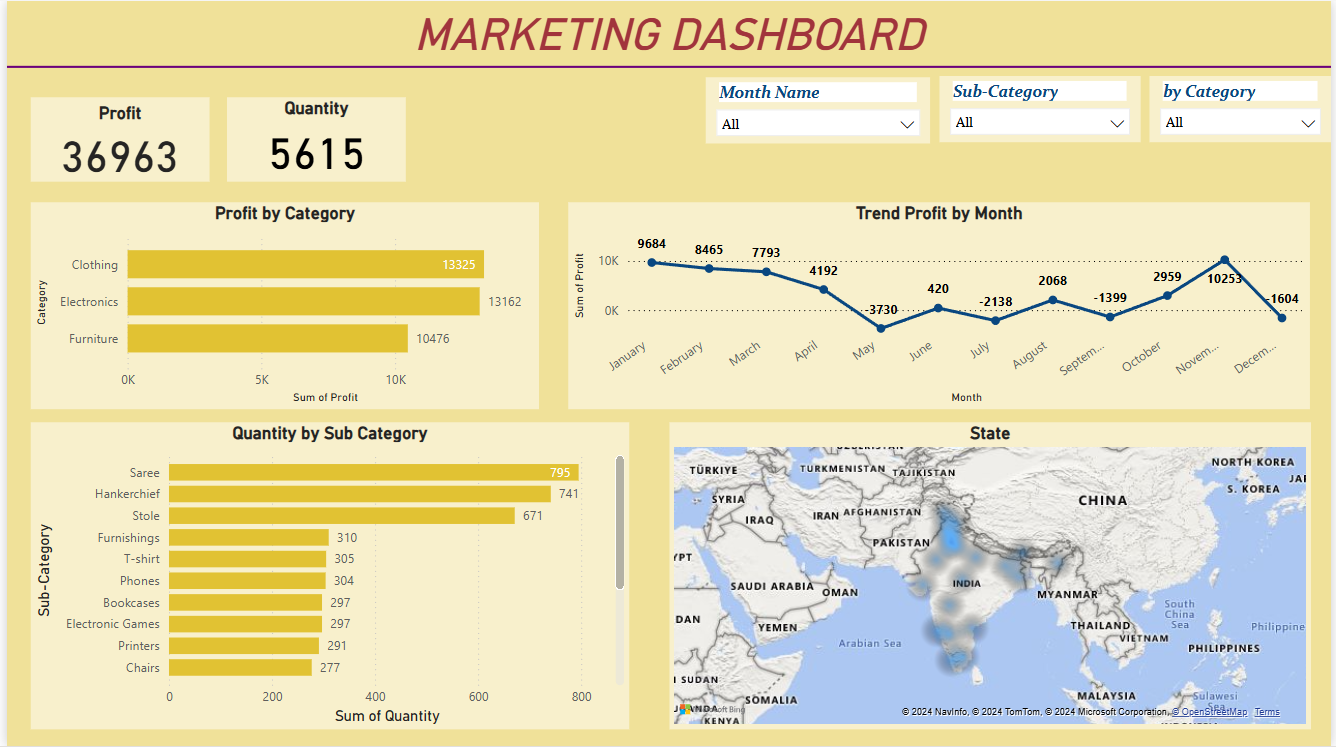

The dashboard page shown, as its layout file describes it:
{"tool":"powerbi","page":{"name":"Page 1","canvas":[1280,720],"ordinal":0},"visuals":[{"type":"textbox","title":"MARKETING DASHBOARD","box":[0,7.2,1279.6,56.7],"z":0},{"type":"shape","box":[0,54.3,1280,18.6],"z":1000},{"type":"card","title":"Profit","fields":{"Values":["Sum(Details.Profit)"]},"box":[22.9,92.9,172.9,81.4],"z":2000},{"type":"card","title":"Quantity","fields":{"Values":["Sum(Details.Quantity)"]},"box":[212.9,92.9,172.9,81.4],"z":3000},{"type":"barChart","title":"Profit by Category","fields":{"Category":["Details.Category"],"Y":["Sum(Details.Profit)"]},"box":[22.9,194.3,491.4,200],"z":4000},{"type":"barChart","title":"Quantity by Sub Category","fields":{"Category":["Details.Sub-Category"],"Y":["Sum(Details.Quantity)"]},"box":[22.9,407.1,578.6,297.1],"z":5000},{"type":"slicer","fields":{"Values":["Details.Category"]},"box":[1104.3,72.9,175.7,64.3],"z":6000},{"type":"map","fields":{"Category":["Orders.State"]},"box":[640,407.1,620,297.1],"z":7000},{"type":"lineChart","title":"Trend Profit by Month","fields":{"Category":["Orders.Order Date.Variation.Date Hierarchy.Month","Orders.Order Date.Variation.Date Hierarchy.Day"],"Y":["Sum(Details.Profit)"]},"box":[542.9,194.3,717.1,200],"z":8000},{"type":"slicer","fields":{"Values":["Details.Sub-Category"]},"box":[900.9,72.4,194.2,63.9],"z":9000},{"type":"slicer","fields":{"Values":["Orders.Month Name"]},"box":[675.4,73.6,217.1,63.9],"z":10000}]}

Visuals, with their boxes in screenshot pixels (x1, y1, x2, y2), scaled from the page's 1280x720 canvas onto the 1336x747 screenshot:
"MARKETING DASHBOARD" textbox: [0,7,1335,66]
shape: [0,56,1335,76]
"Profit" card: [24,96,204,181]
"Quantity" card: [222,96,403,181]
"Profit by Category" barChart: [24,202,537,409]
"Quantity by Sub Category" barChart: [24,422,628,731]
slicer - Details.Category: [1153,76,1335,142]
map - Orders.State: [668,422,1315,731]
"Trend Profit by Month" lineChart: [567,202,1315,409]
slicer - Details.Sub-Category: [940,75,1143,141]
slicer - Orders.Month Name: [705,76,932,143]
